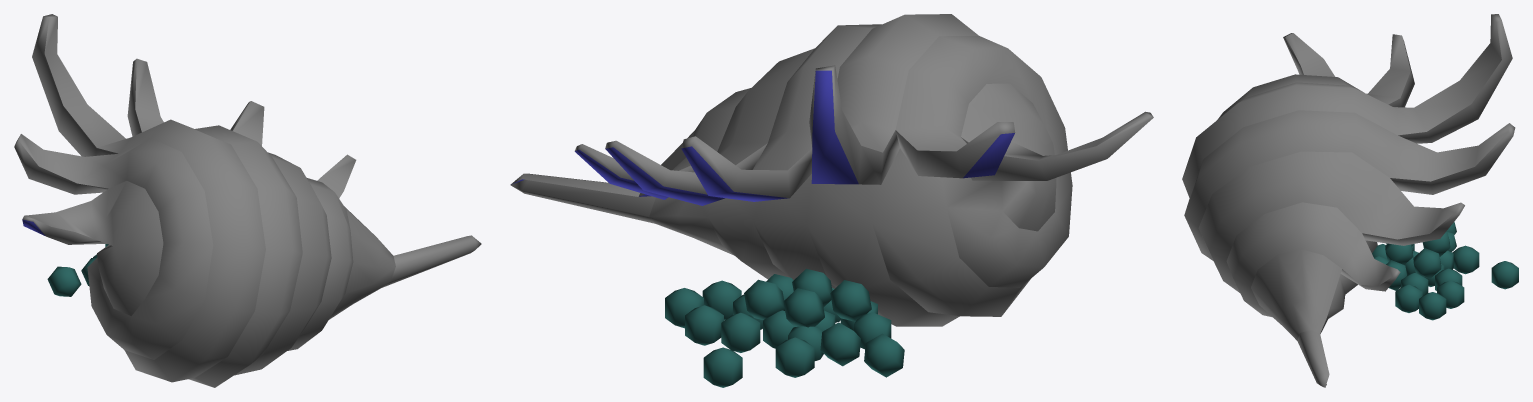
Rendered from Rakvina_01.fbx.
3 views of the same model, side by side, from view 1: azimuth 30°, elevation 25°; view 2: azimuth 150°, elevation 25°; view 3: azimuth 270°, elevation 25° (orthographic). The views are drawn at different scales.
Parts seen in each view (by area): view 1: Sphere001; view 2: Sphere001; view 3: Sphere001.
Boxes of the visible parts, <box> form: Sphere001: <box>14,14,481,387</box>; Sphere001: <box>510,14,1153,387</box>; Sphere001: <box>1182,14,1518,387</box>.
Size of the model in its own units: 65.05 by 37.08 by 43.42.
